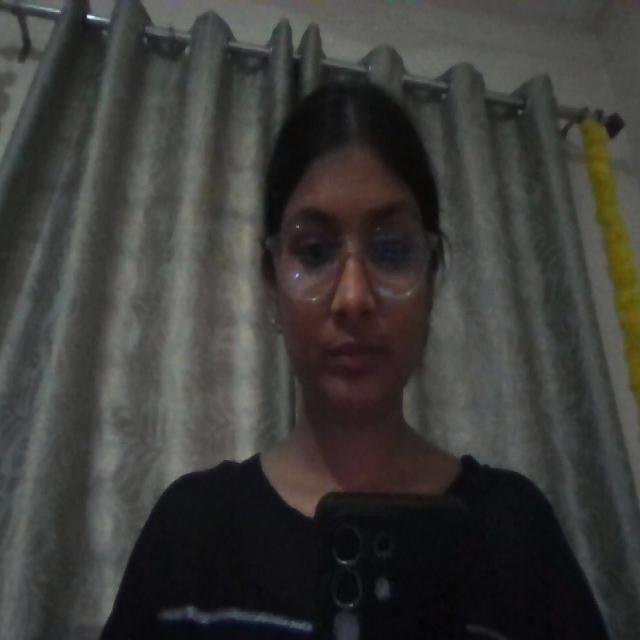phone: (314, 493, 487, 639)
